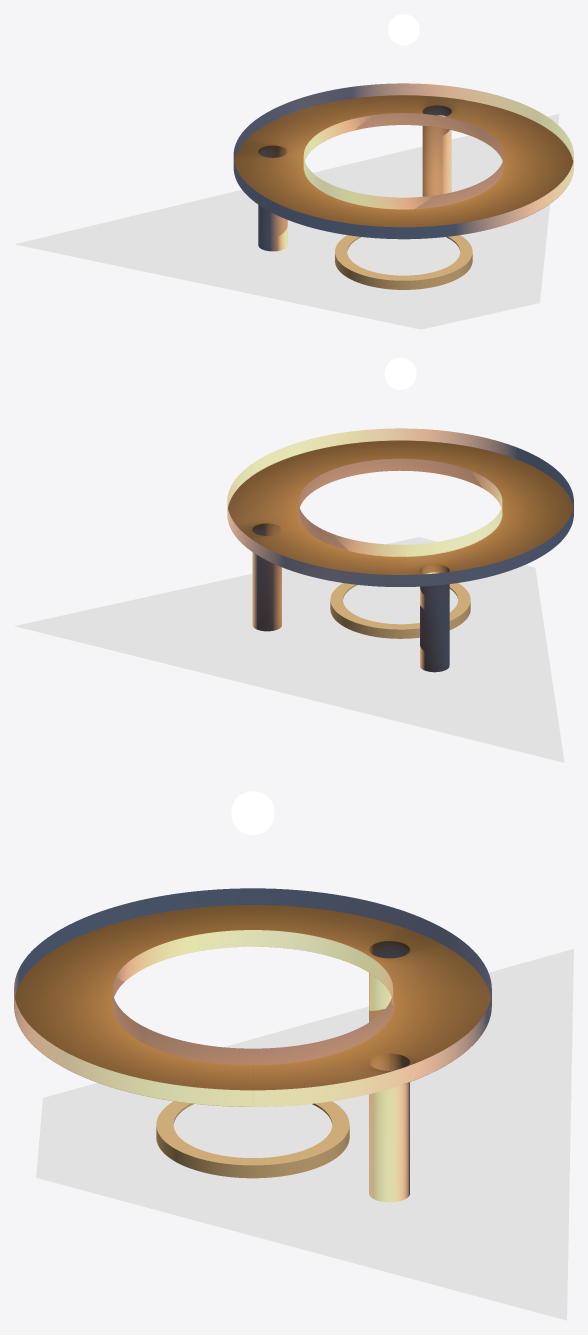
Rendered from site2.gltf.
3 views of the same model, one above another, from view 1: azimuth 30°, elevation 25°; view 2: azimuth 150°, elevation 25°; view 3: azimuth 270°, elevation 25° (orthographic). The views are drawn at different scales.
Parts seen in each view (by area): view 1: Plane.001, Plane, Circle.002, Circle.001, Cube; view 2: Plane.001, Plane, Circle.002, Circle.001, Cube; view 3: Plane.001, Plane, Circle.002, Circle.001, Cube.
Part boxes in pixels (bbox=[...]): Plane.001: bbox=[15, 114, 559, 329]; Plane: bbox=[233, 83, 573, 251]; Circle.002: bbox=[347, 237, 460, 275]; Circle.001: bbox=[335, 235, 472, 289]; Cube: bbox=[388, 14, 419, 45]; Plane.001: bbox=[14, 537, 564, 762]; Plane: bbox=[227, 428, 573, 672]; Circle.002: bbox=[343, 585, 457, 624]; Circle.001: bbox=[330, 583, 470, 638]; Cube: bbox=[384, 358, 416, 389]; Plane.001: bbox=[36, 949, 573, 1320]; Plane: bbox=[14, 888, 491, 1202]; Circle.002: bbox=[173, 1104, 332, 1157]; Circle.001: bbox=[156, 1101, 349, 1178]; Cube: bbox=[231, 791, 274, 834].
Size of what is drawn, in the model's own units: 24.29 by 11.14 by 15.45.
4 materials, 1 textured.
